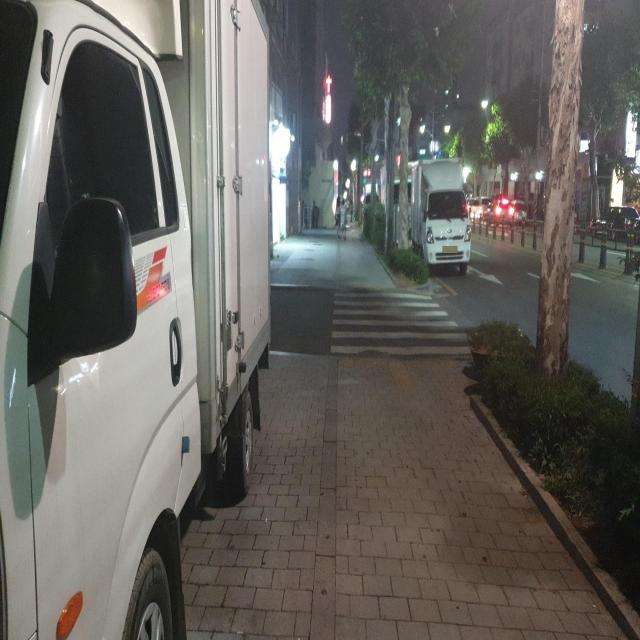횡단보도: (330, 291, 473, 358)
